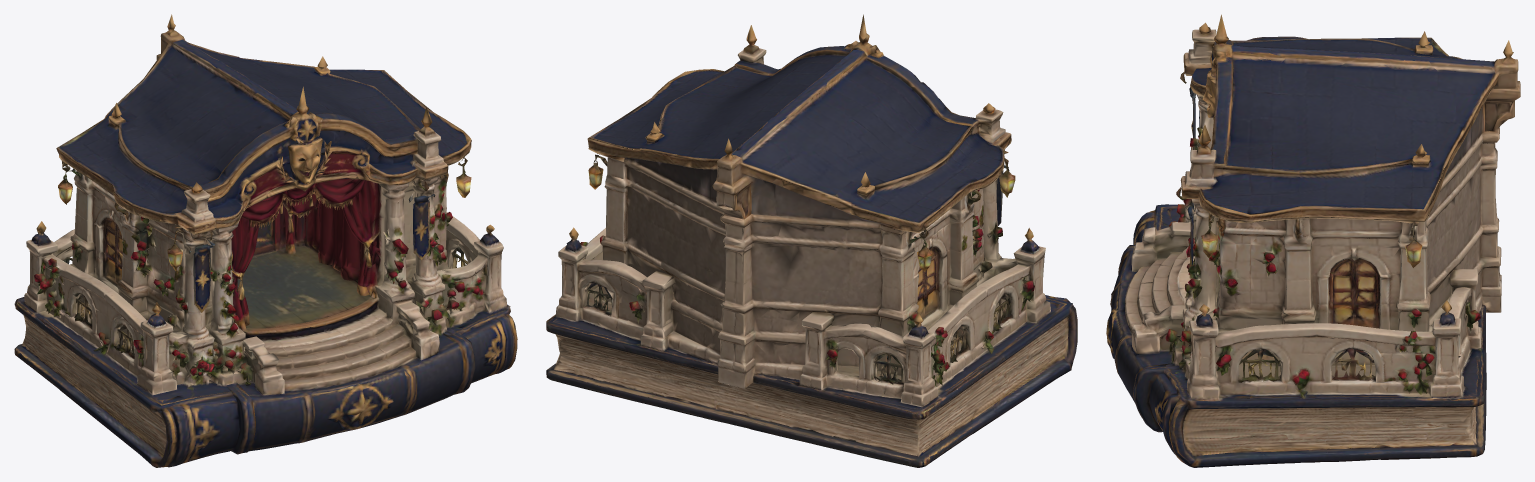
The model's file is storybook-pavilion.glb.
The picture shows the model from 3 angles, left to right: view 1: azimuth 30°, elevation 25°; view 2: azimuth 150°, elevation 25°; view 3: azimuth 270°, elevation 25°; orthographic projection. The views are drawn at different scales.
Visible parts, largest first — view 1: tripo_node_d4076b7f-bd87-428a-806e-76b9b41e8fc5; view 2: tripo_node_d4076b7f-bd87-428a-806e-76b9b41e8fc5; view 3: tripo_node_d4076b7f-bd87-428a-806e-76b9b41e8fc5.
Boxes of the visible parts, bbox=[...] form: tripo_node_d4076b7f-bd87-428a-806e-76b9b41e8fc5: bbox=[14, 14, 517, 467]; tripo_node_d4076b7f-bd87-428a-806e-76b9b41e8fc5: bbox=[546, 14, 1077, 467]; tripo_node_d4076b7f-bd87-428a-806e-76b9b41e8fc5: bbox=[1106, 14, 1520, 467].
Bounding box in the file's own units: 0.9812 × 0.8098 × 0.8645.
1 material, 1 textured.
